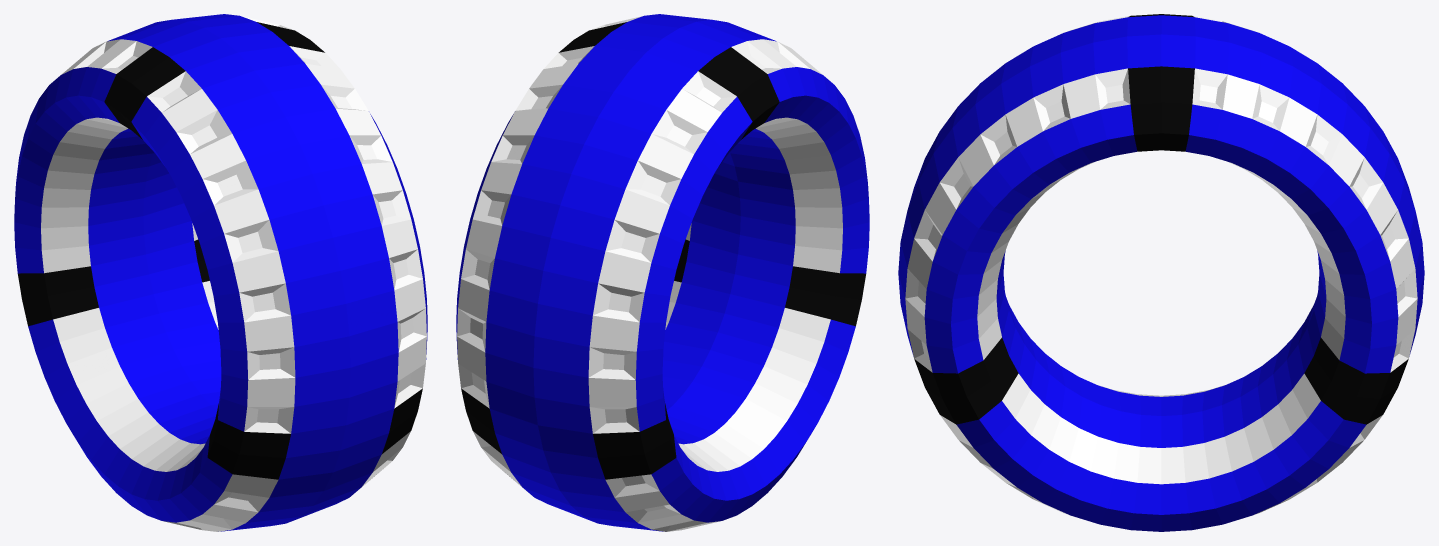
Rendered from Blue.fbx.
3 views of the same model, side by side, from view 1: azimuth 30°, elevation 25°; view 2: azimuth 150°, elevation 25°; view 3: azimuth 270°, elevation 25° (orthographic).
Parts seen in each view (by area): view 1: Torus.001; view 2: Torus.001; view 3: Torus.001.
Part boxes in pixels (x1,y1,x2,y2): Torus.001: [14, 14, 427, 531]; Torus.001: [456, 14, 869, 531]; Torus.001: [898, 14, 1424, 531].
Size of the model in its own units: 115 by 250 by 250.
